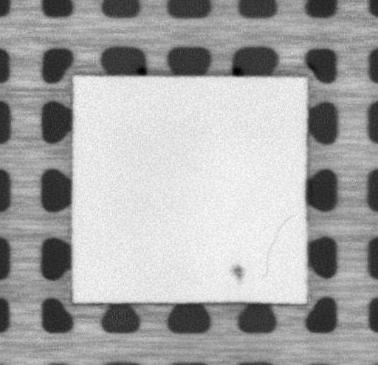DIE_CRACK: (259, 214, 296, 282)
